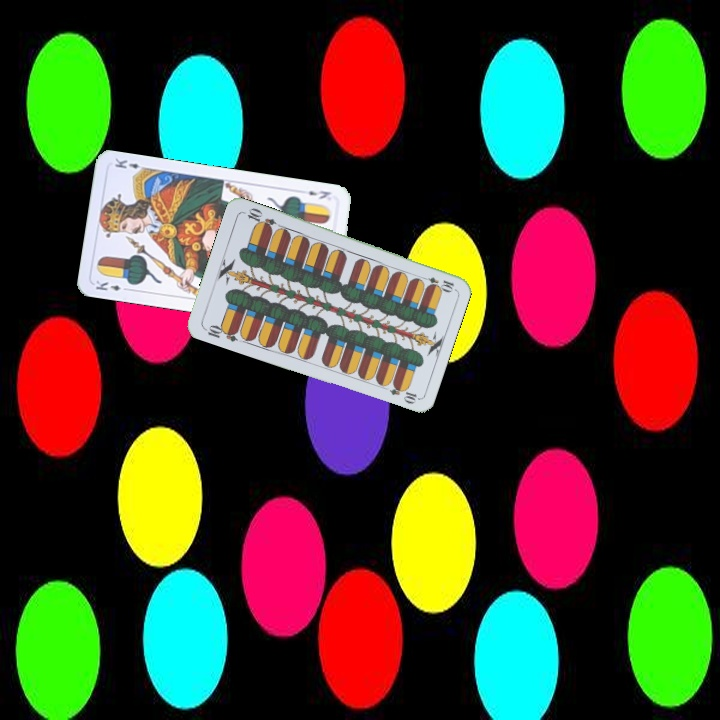E10: (200, 321, 241, 344), (416, 272, 456, 293)
EK: (92, 277, 132, 294), (304, 186, 333, 202)
